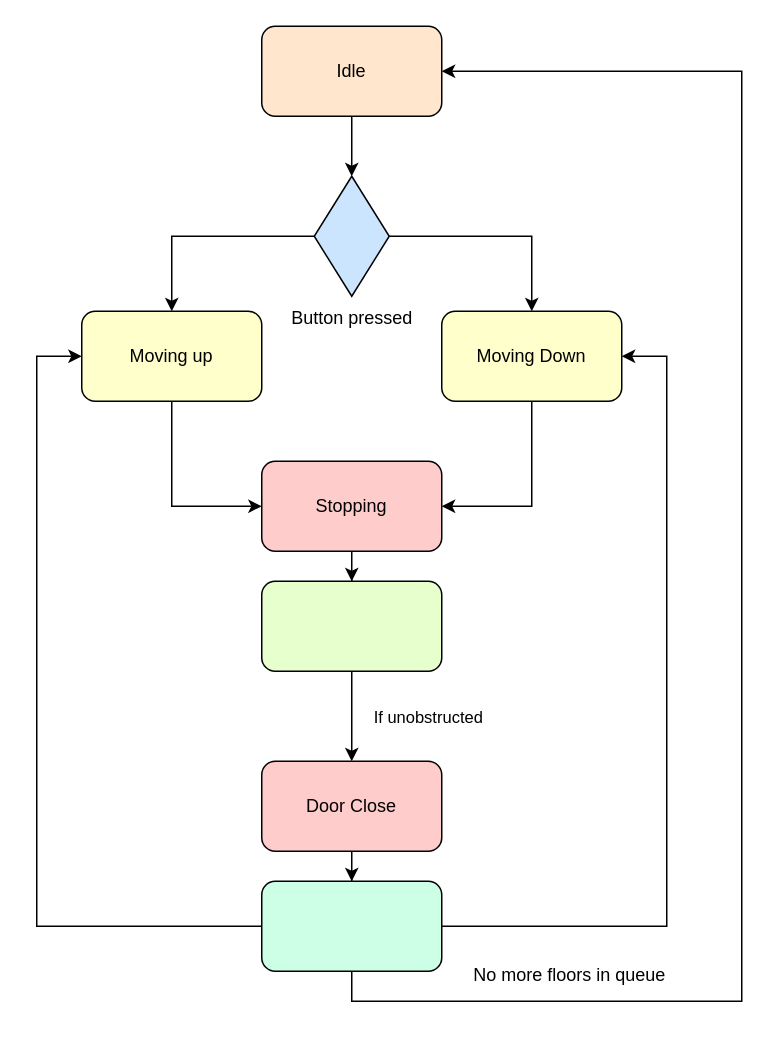
Image size: 780x1040. Some labels were removed from this diagram. Here are the shapes that lost their labels. From the top down, the centre of each, then its label:
(x=351, y=625): Door Open
(x=351, y=925): Move to next action in queue
